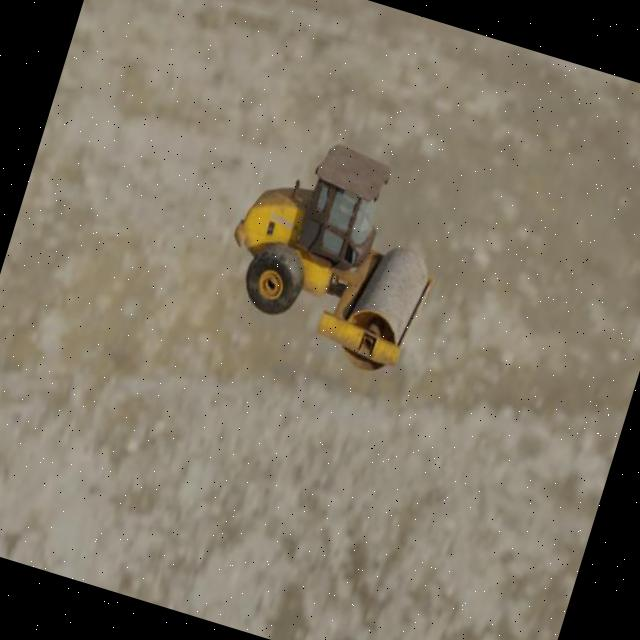Roller: (205, 121, 464, 383)
